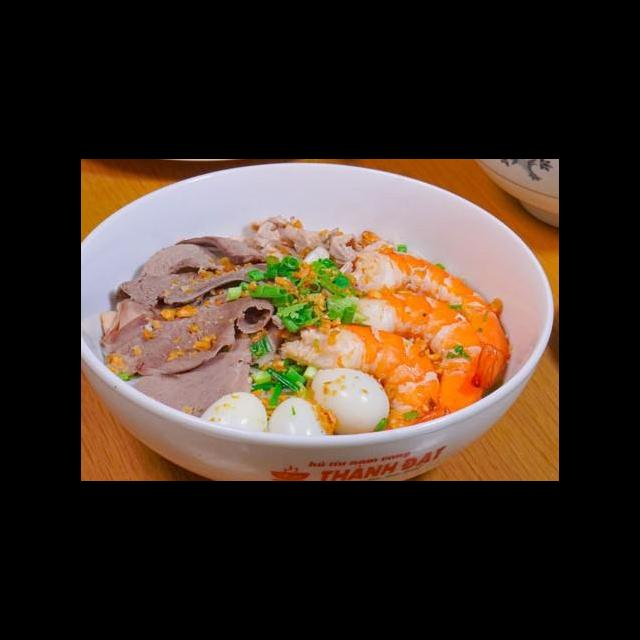thit heo: (97, 290, 280, 380), (126, 325, 266, 422), (164, 228, 274, 274), (252, 209, 316, 268)
tom: (345, 242, 514, 398), (330, 285, 490, 432), (274, 321, 447, 437)
trung: (309, 364, 394, 435), (194, 387, 272, 446), (267, 391, 332, 444)
